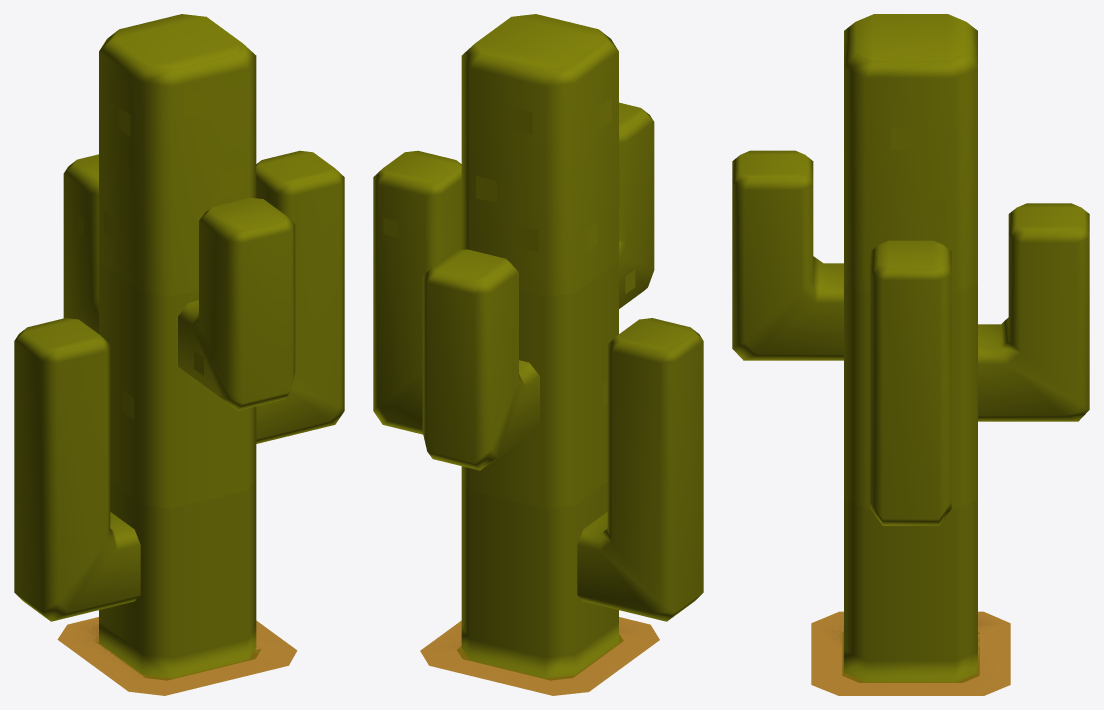
File: B_mountain1_tree00.fbx
3 renders of one model, left to right at view 1: azimuth 30°, elevation 25°; view 2: azimuth 150°, elevation 25°; view 3: azimuth 270°, elevation 25°, orthographic. The views are drawn at different scales.
Visible parts, largest first — view 1: model 1, model; view 2: model 1, model; view 3: model 1, model.
Boxes of the visible parts, x1=… form: model 1: x1=14, y1=14, x2=344, y2=695; model: x1=57, y1=617, x2=297, y2=695; model 1: x1=373, y1=14, x2=703, y2=695; model: x1=420, y1=617, x2=659, y2=695; model 1: x1=732, y1=14, x2=1089, y2=695; model: x1=811, y1=611, x2=1010, y2=695.
Size of the model in its own units: 3.57 by 6.78 by 3.57.
